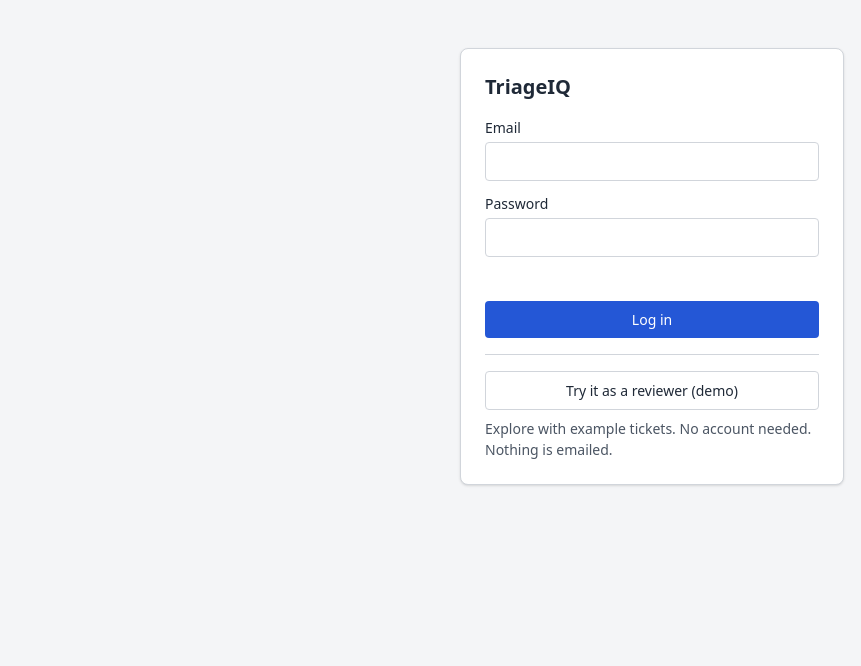
the demo button on the login page › says so when the demo refuses (too many visits, or off)
What coordinates should you click on to do the following:
click the button "Try it as a reviewer (demo)"
I would click on:
 (652, 390)
Its box is [485,370,819,410].
(page scrolled)
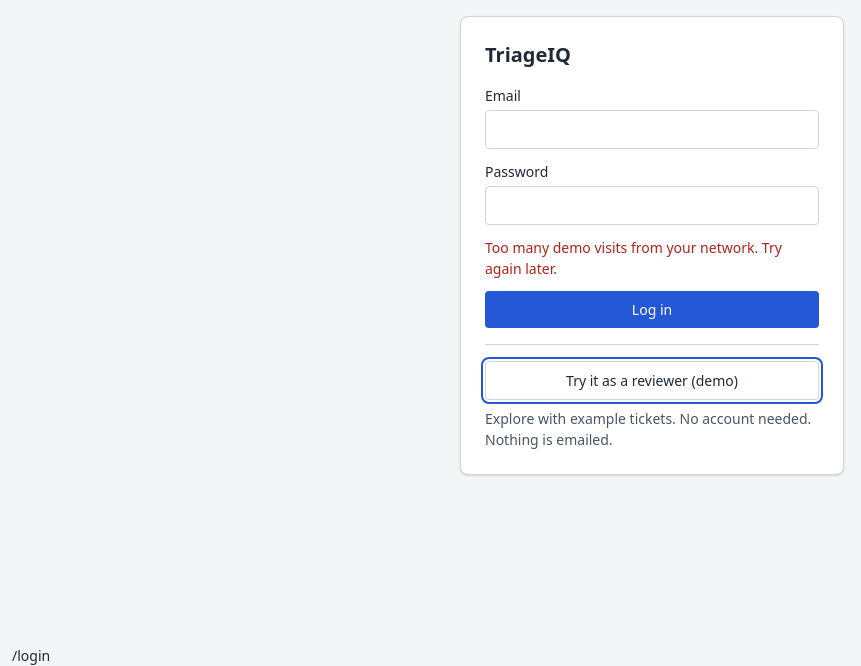
Expected: the text with test id "where" reads "/login", [12,646,50,665]
Expected: the text "Too many demo visits from your network. Try again later." is shown, [485,236,819,278]
